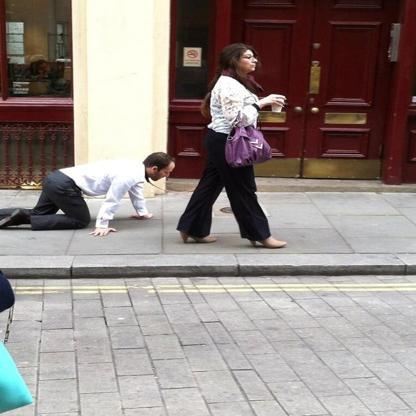dog: (2, 145, 178, 240)
person: (174, 36, 315, 246), (3, 141, 176, 244)
